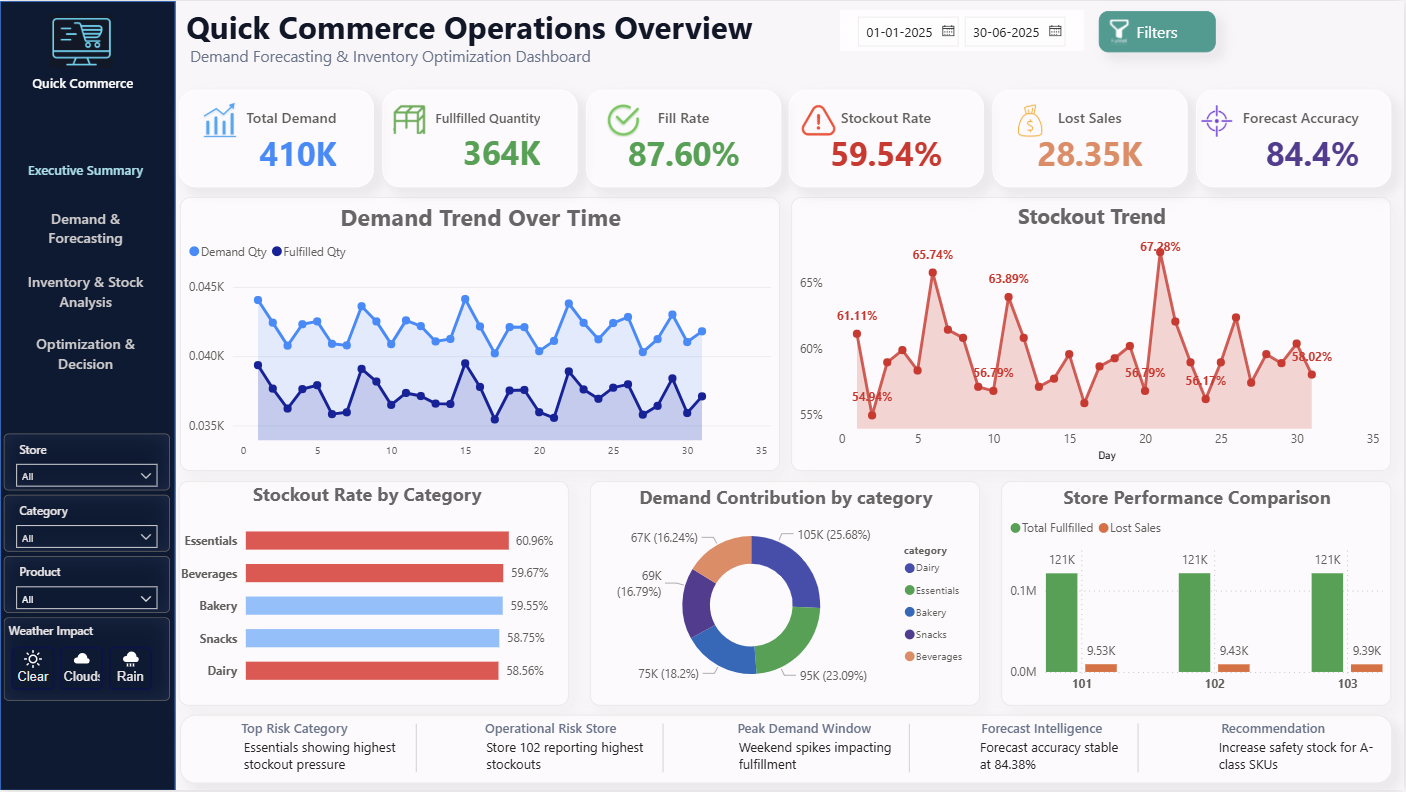

This screenshot's page, from the dashboard's own definition file:
{"tool":"powerbi","page":{"name":"Executive Overview","canvas":[1440,810],"ordinal":0},"visuals":[{"type":"shape","box":[0,0,180,810],"z":0},{"type":"textbox","box":[186.5,0,687.5,69.7],"z":1000,"group":"g1"},{"type":"cardVisual","fields":{"Data":["DAX Measures.Total Demand"]},"box":[183.8,91,200.1,100],"z":1000},{"type":"lineChart","title":"Demand Trend Over Time","fields":{"Y":["Avg(inventory_data.demand_qty)","Avg(inventory_data.fulfilled_qty)"],"Category":["inventory_data.date.Variation.Date Hierarchy.Day"]},"box":[185.1,201.5,615.3,280.4],"z":2000},{"type":"lineChart","title":"Stockout Trend","fields":{"Category":["inventory_data.date.Variation.Date Hierarchy.Day"],"Y":["Avg(inventory_data.stockout_flag)"],"Y2":["DAX Measures.Stockout Label"]},"box":[811.3,201.5,615.3,280.4],"z":3000},{"type":"clusteredBarChart","title":"Stockout Rate by Category","fields":{"Category":["inventory_data.category"],"Y":["DAX Measures.Stockout Rate"]},"box":[183.8,492.1,400.2,230.1],"z":4000},{"type":"donutChart","title":"Demand Contribution by category","fields":{"Category":["inventory_data.category"],"Y":["Sum(inventory_data.demand_qty)"]},"box":[605.1,492.1,400.2,230.1],"z":5000},{"type":"clusteredColumnChart","title":"Store Performance Comparison","fields":{"Category":["inventory_data.store_id"],"Y":["DAX Measures.Total Fullfilled","DAX Measures.Lost Sales"]},"box":[1026.4,492.1,400.2,230.1],"z":6000},{"type":"cardVisual","fields":{"Data":["DAX Measures.Total Fullfilled"]},"box":[392.4,91,200.1,100],"z":7000},{"type":"cardVisual","fields":{"Data":["DAX Measures.Fill Rate"]},"box":[601,91,200,100],"z":8000},{"type":"cardVisual","fields":{"Data":["DAX Measures.Stockout Rate"]},"box":[809.5,91,200,100],"z":9000},{"type":"cardVisual","fields":{"Data":["DAX Measures.Lost Sales"]},"box":[1018,91,200,100],"z":10000},{"type":"cardVisual","fields":{"Data":["DAX Measures.Forecast Accuracy"]},"box":[1226.5,91,200.1,100],"z":11000},{"type":"slicer","fields":{"Values":["inventory_data.date"]},"box":[861.7,9.5,250,42.2],"z":12000},{"type":"actionButton","box":[1127.2,10.9,119.8,42.2],"z":13000},{"type":"group","id":"g1","title":"Group 1","box":[186.5,0,687.5,74],"z":14000},{"type":"shape","box":[184.3,731.4,1242.9,70],"z":15000},{"type":"shape","box":[674,741.4,11.4,50],"z":16000},{"type":"shape","box":[926.6,741.4,11.4,50],"z":17000},{"type":"textbox","box":[190.6,39.8,447.9,34.2],"z":17001,"group":"g1"},{"type":"shape","box":[1161.4,741.4,11.4,50],"z":18000},{"type":"textbox","box":[242.9,731.4,130,30],"z":19000},{"type":"textbox","box":[492.3,731.4,155.7,30],"z":20000},{"type":"textbox","box":[750.9,731.4,160,30],"z":21000},{"type":"textbox","box":[1000.7,731.4,147.1,30],"z":22000},{"type":"textbox","box":[244.3,750.9,211.4,57.1],"z":23000},{"type":"shape","box":[420,741.4,12.9,50],"z":24000},{"type":"textbox","box":[493.6,750.9,181.4,52.9],"z":25000},{"type":"textbox","box":[752.2,750.9,174.3,50],"z":26000},{"type":"textbox","box":[999.7,750.9,158.6,50],"z":27000},{"type":"textbox","box":[1247.1,731.4,125.7,30],"z":28000},{"type":"textbox","box":[1244.3,750.9,182.9,50],"z":29000},{"type":"actionButton","box":[12.8,152.1,150,40],"z":30000},{"type":"actionButton","box":[12.8,204.5,150,54.3],"z":31000},{"type":"actionButton","box":[12.8,271.2,150,51.4],"z":32000},{"type":"actionButton","box":[12.2,335,150,52.9],"z":33000},{"type":"actionButton","box":[51.4,14.3,64.3,54.3],"z":34000},{"type":"actionButton","box":[27.1,68.6,115.7,30],"z":35000},{"type":"slicer","fields":{"Values":["inventory_data.category"]},"box":[4,506.4,170,58.4],"z":36000},{"type":"slicer","fields":{"Values":["inventory_data.store_id"]},"box":[4,443.8,170,58.4],"z":37000},{"type":"slicer","fields":{"Values":["inventory_data.product_name"]},"box":[4,568.9,170,58.4],"z":38000},{"type":"ChicletSlicer1448559807354","title":"Weather Impact","fields":{"Category":["inventory_data.weather_type"],"Image":["inventory_data.Weather SVG"]},"box":[4,631.4,170,85.7],"z":39000},{"type":"image","box":[207.1,104.3,35.7,35.7],"z":40000},{"type":"image","box":[402.9,104.3,35.7,35.7],"z":41000},{"type":"image","box":[621.4,104.3,35.7,35.7],"z":42000},{"type":"image","box":[821.4,104.6,35,35.7],"z":43000},{"type":"image","box":[1038.6,104.6,35,35.7],"z":44000},{"type":"image","box":[1230,104.6,35.7,35.7],"z":45000}]}

Visuals, with their boxes in screenshot pixels (x1, y1, x2, y2), scaled from the page's 1440x810 canvas onto the 1406x792 screenshot:
shape: <region>0, 0, 176, 791</region>
textbox: <region>182, 0, 853, 68</region>
cardVisual - DAX Measures.Total Demand: <region>179, 89, 375, 187</region>
"Demand Trend Over Time" lineChart: <region>181, 197, 782, 471</region>
"Stockout Trend" lineChart: <region>792, 197, 1393, 471</region>
"Stockout Rate by Category" clusteredBarChart: <region>179, 481, 570, 706</region>
"Demand Contribution by category" donutChart: <region>591, 481, 982, 706</region>
"Store Performance Comparison" clusteredColumnChart: <region>1002, 481, 1393, 706</region>
cardVisual - DAX Measures.Total Fullfilled: <region>383, 89, 579, 187</region>
cardVisual - DAX Measures.Fill Rate: <region>587, 89, 782, 187</region>
cardVisual - DAX Measures.Stockout Rate: <region>790, 89, 986, 187</region>
cardVisual - DAX Measures.Lost Sales: <region>994, 89, 1189, 187</region>
cardVisual - DAX Measures.Forecast Accuracy: <region>1198, 89, 1393, 187</region>
slicer - inventory_data.date: <region>841, 9, 1085, 51</region>
actionButton: <region>1101, 11, 1218, 52</region>
"Group 1" group: <region>182, 0, 853, 72</region>
shape: <region>180, 715, 1394, 784</region>
shape: <region>658, 725, 669, 774</region>
shape: <region>905, 725, 916, 774</region>
textbox: <region>186, 39, 623, 72</region>
shape: <region>1134, 725, 1145, 774</region>
textbox: <region>237, 715, 364, 744</region>
textbox: <region>481, 715, 633, 744</region>
textbox: <region>733, 715, 889, 744</region>
textbox: <region>977, 715, 1121, 744</region>
textbox: <region>239, 734, 445, 790</region>
shape: <region>410, 725, 423, 774</region>
textbox: <region>482, 734, 659, 786</region>
textbox: <region>734, 734, 905, 783</region>
textbox: <region>976, 734, 1131, 783</region>
textbox: <region>1218, 715, 1340, 744</region>
textbox: <region>1215, 734, 1394, 783</region>
actionButton: <region>12, 149, 159, 188</region>
actionButton: <region>12, 200, 159, 253</region>
actionButton: <region>12, 265, 159, 315</region>
actionButton: <region>12, 328, 158, 379</region>
actionButton: <region>50, 14, 113, 67</region>
actionButton: <region>26, 67, 139, 96</region>
slicer - inventory_data.category: <region>4, 495, 170, 552</region>
slicer - inventory_data.store_id: <region>4, 434, 170, 491</region>
slicer - inventory_data.product_name: <region>4, 556, 170, 613</region>
"Weather Impact" ChicletSlicer1448559807354: <region>4, 617, 170, 701</region>
image: <region>202, 102, 237, 137</region>
image: <region>393, 102, 428, 137</region>
image: <region>607, 102, 642, 137</region>
image: <region>802, 102, 836, 137</region>
image: <region>1014, 102, 1048, 137</region>
image: <region>1201, 102, 1236, 137</region>
